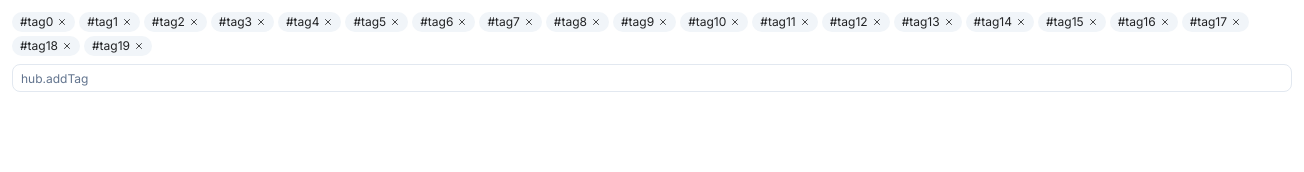
Scenario: TagInput › when max tags reached › then shows error message
The width and height of the screenshot is (1304, 172).
Type "newtag" into the field with test id "tagInput" at (652, 78), box [12, 64, 1292, 92]
Then press Enter
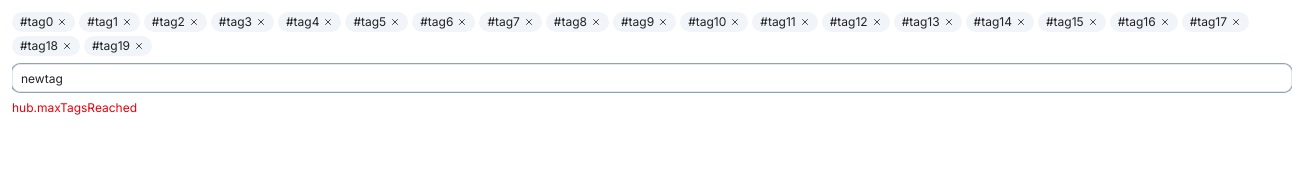
Expected: the text "hub.maxTagsReached" is shown, [12, 100, 137, 115]
